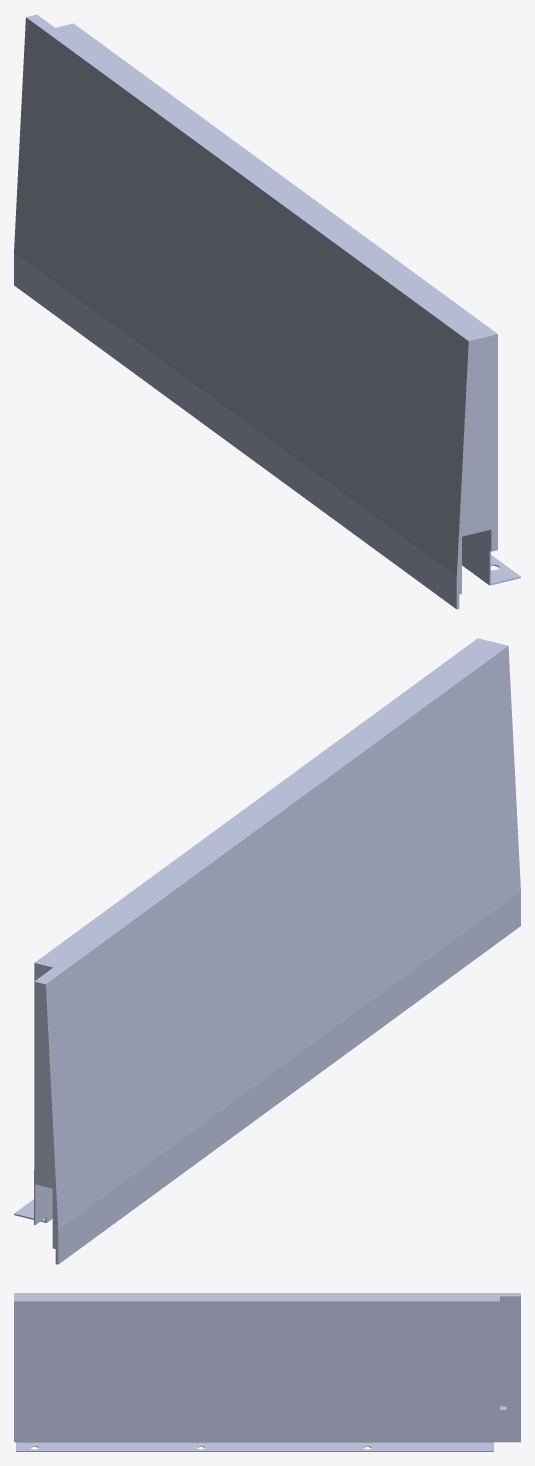
Rendered from mv-kava-K400-p.glb.
The picture shows the model from 3 angles, top to bottom: view 1: azimuth 30°, elevation 25°; view 2: azimuth 150°, elevation 25°; view 3: azimuth 270°, elevation 25°; orthographic projection. The views are drawn at different scales.
Visible parts, largest first — view 1: 45250738; view 2: 45250738; view 3: 45250738.
Boxes of the visible parts, <box> form: 45250738: <box>14,14,520,609</box>; 45250738: <box>14,638,520,1264</box>; 45250738: <box>14,1293,520,1451</box>.
Size of the model in its own units: 0.0335 by 0.129 by 0.3902.
